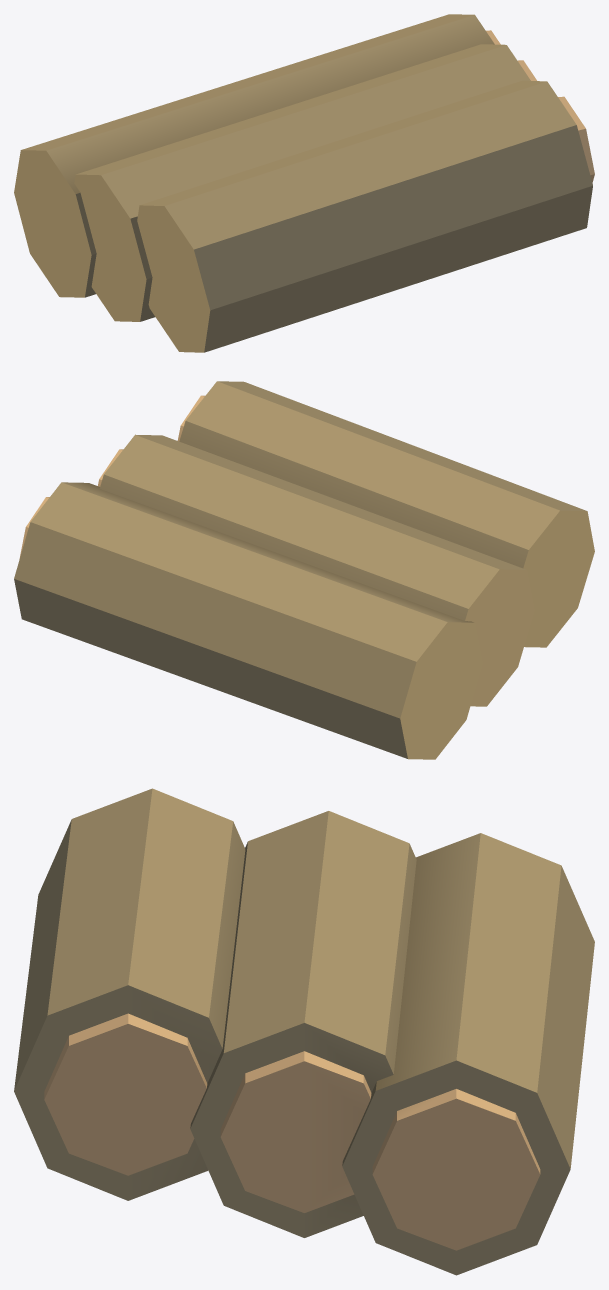
File: find_reefwood.glb
The picture shows the model from 3 angles, top to bottom: view 1: azimuth 30°, elevation 25°; view 2: azimuth 150°, elevation 25°; view 3: azimuth 270°, elevation 25°; orthographic projection. The views are drawn at different scales.
Parts seen in each view (by area): view 1: find_reefwood; view 2: find_reefwood; view 3: find_reefwood.
Boxes of the visible parts, x1,y1,x2,y2 form: find_reefwood: (14, 14, 594, 352); find_reefwood: (14, 381, 594, 759); find_reefwood: (14, 788, 594, 1275).
Bounding box in the file's own units: 0.5725 × 0.2771 × 0.4779.
